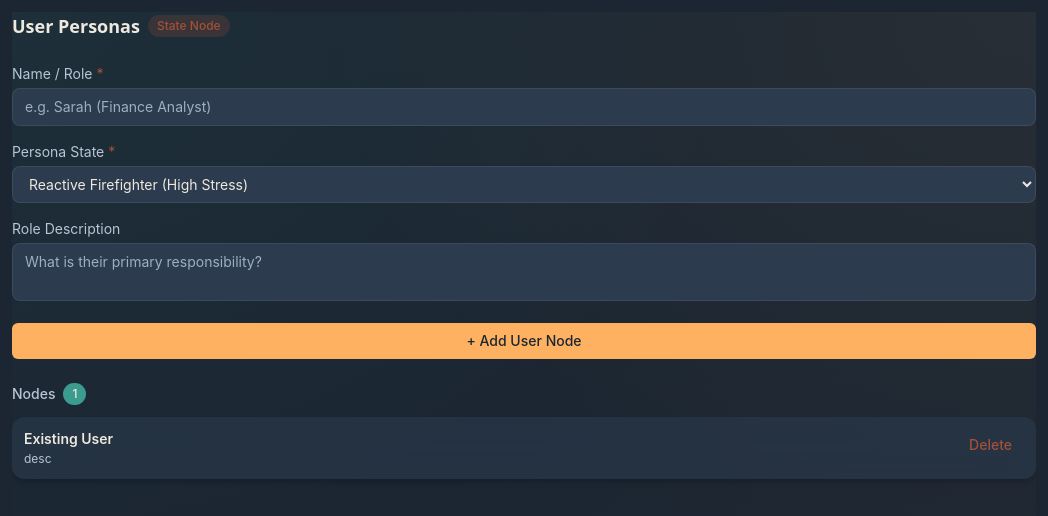
PersonaForm › shows validation error on empty name submit
The width and height of the screenshot is (1048, 516).
Click the button "+ Add User Node".
click(524, 341)  # box top-left (12, 323), bottom-right (1036, 359)
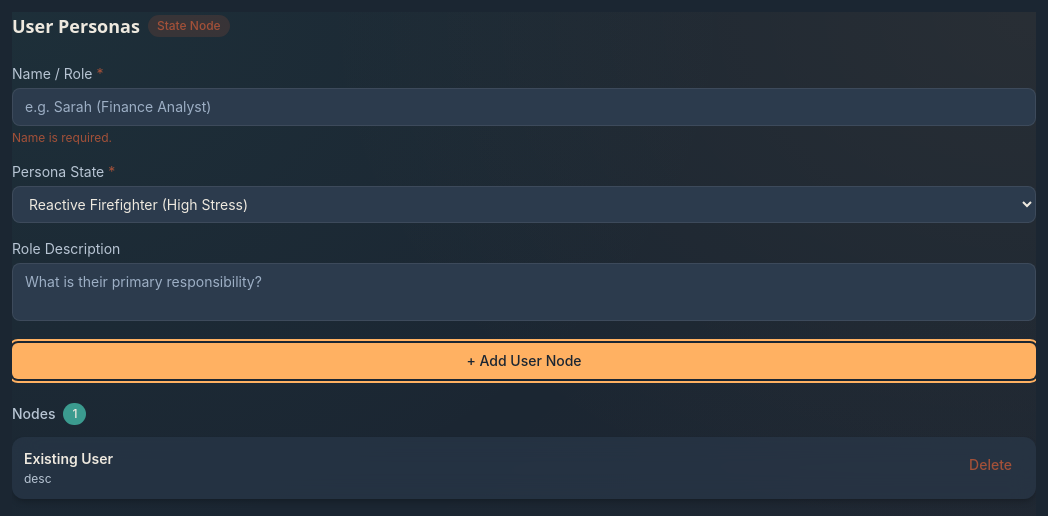
Expected: the text "Name is required." is shown, top-left (12, 130), bottom-right (112, 145)
